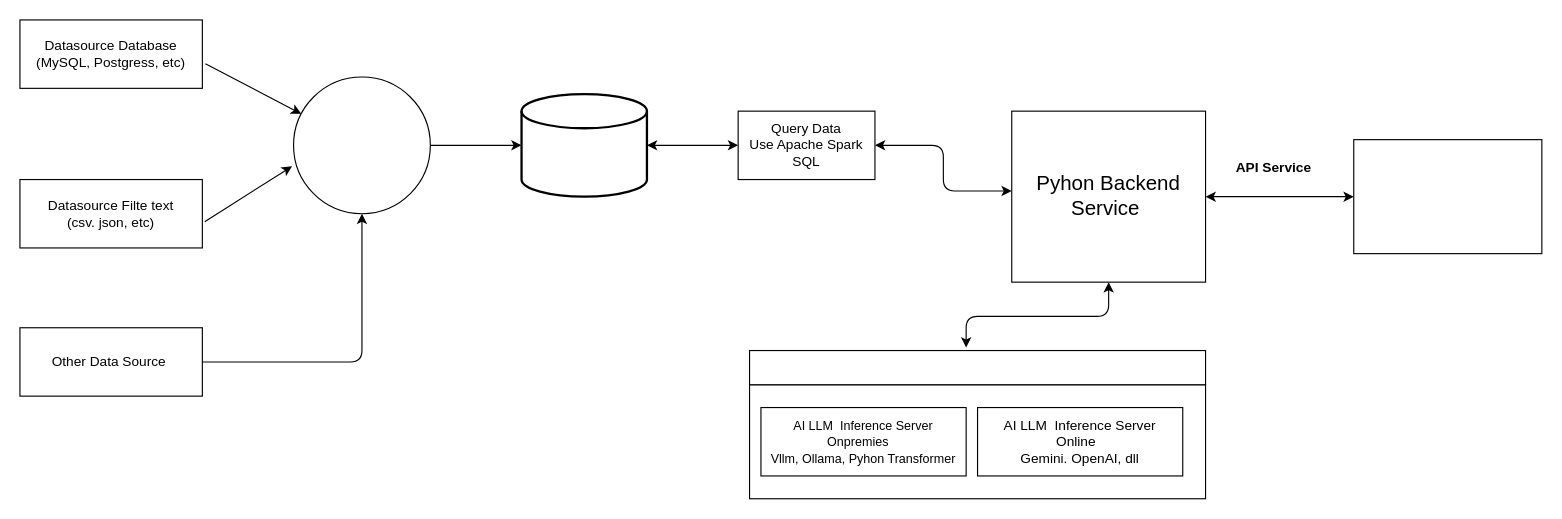
The diagram is 1562 pixels wide and 519 high, and some of its shapes have lost their labels. The shapes that lost their labels are listed below. From the top down, each one's box as (x1, y1, x2, y2) in pixels, then its label:
(292, 76, 430, 214): ETL Apache Spark
(520, 92, 648, 197): Result ETL Format Parquet
(1353, 139, 1542, 254): Frontend Web, App Mobil Device
(748, 349, 1206, 385): Inference Server LLM
